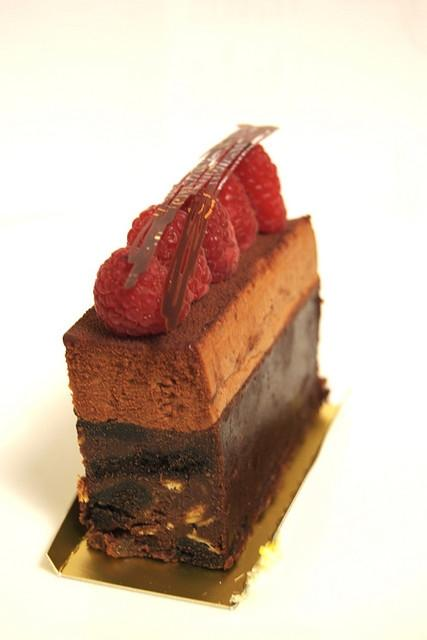raspberry: (93, 246, 190, 336), (127, 204, 212, 301), (218, 143, 287, 235), (179, 187, 241, 283), (218, 173, 258, 251)
